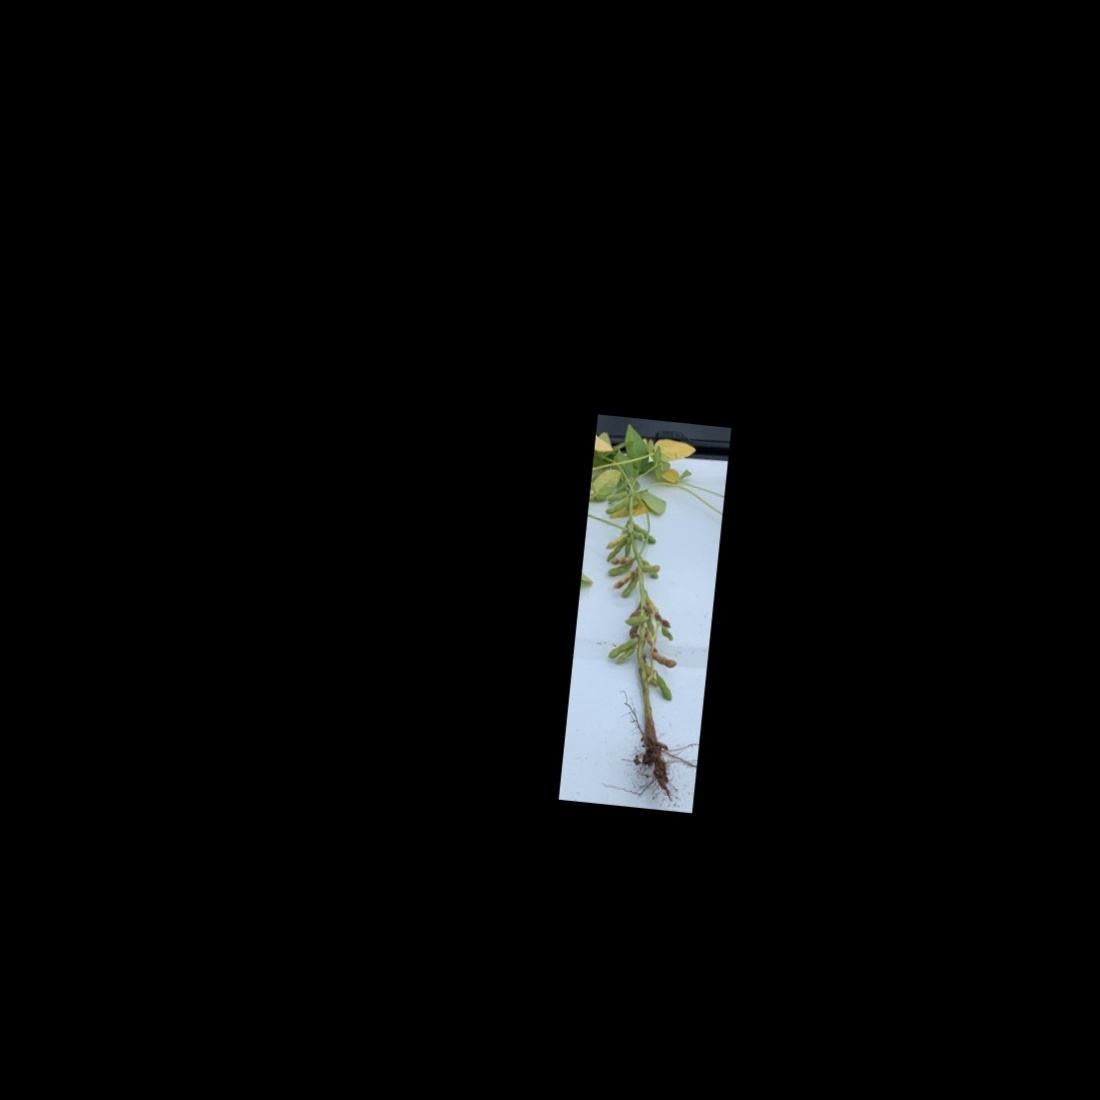pod: (604, 633, 638, 662), (651, 670, 675, 704), (611, 566, 640, 592), (618, 570, 641, 602), (650, 649, 681, 670), (602, 495, 630, 516), (605, 560, 634, 579), (605, 529, 629, 551), (638, 559, 665, 576), (632, 523, 649, 536)
soy: (559, 418, 704, 800)
